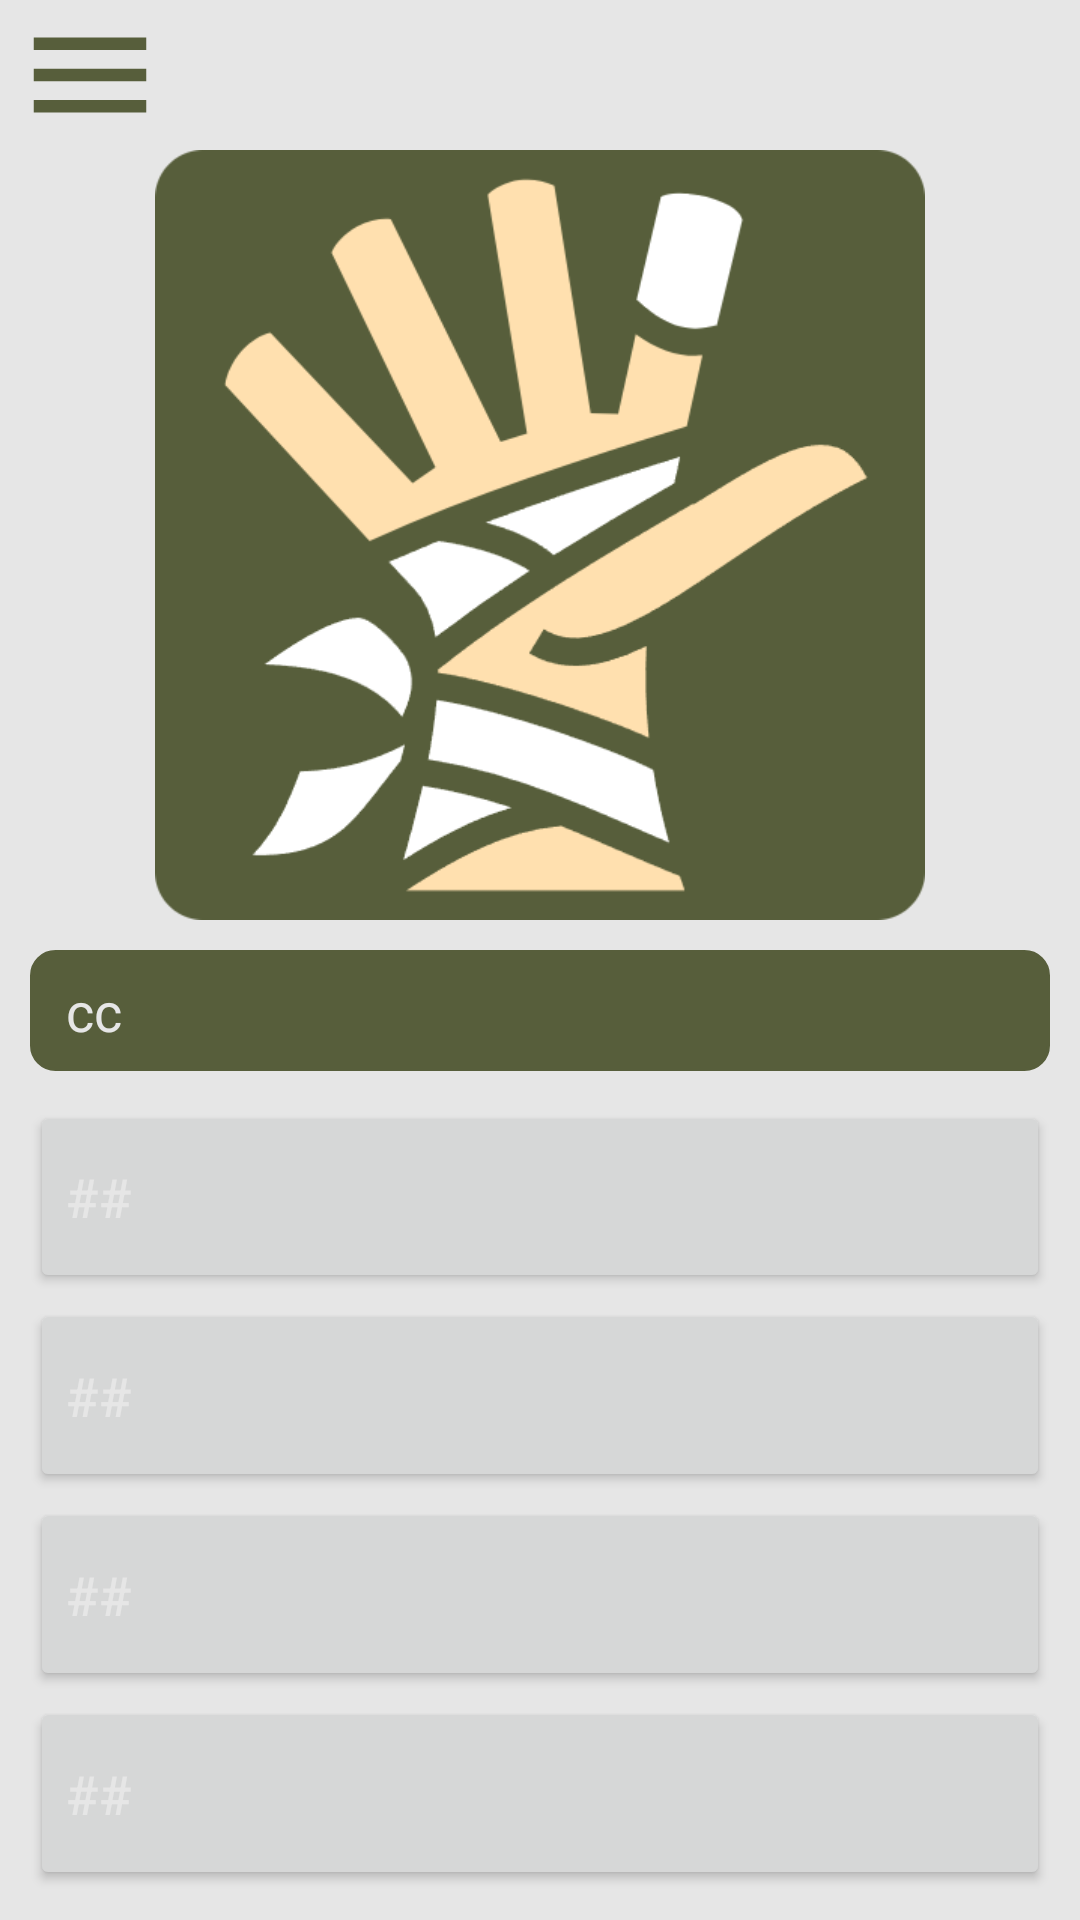

Locate icon controls on the screen. Image size 1080*1920, boxes as (x1, y1, x2, y2).
menu: (33, 37, 147, 113)
